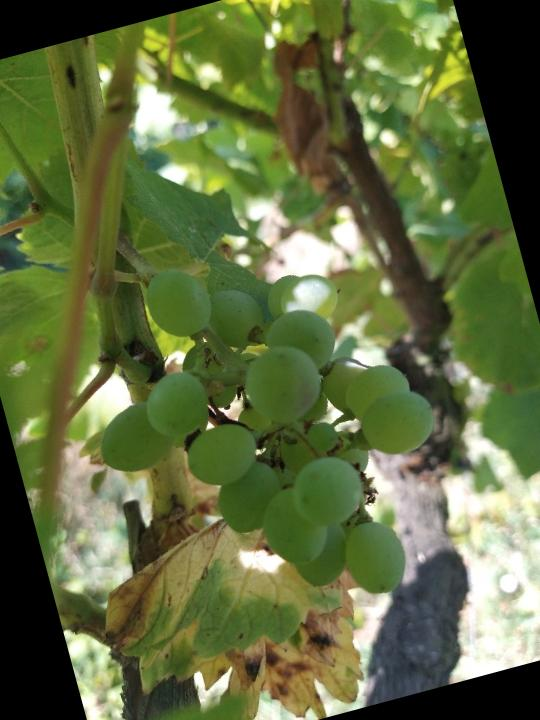grape: (59, 211, 479, 657)
